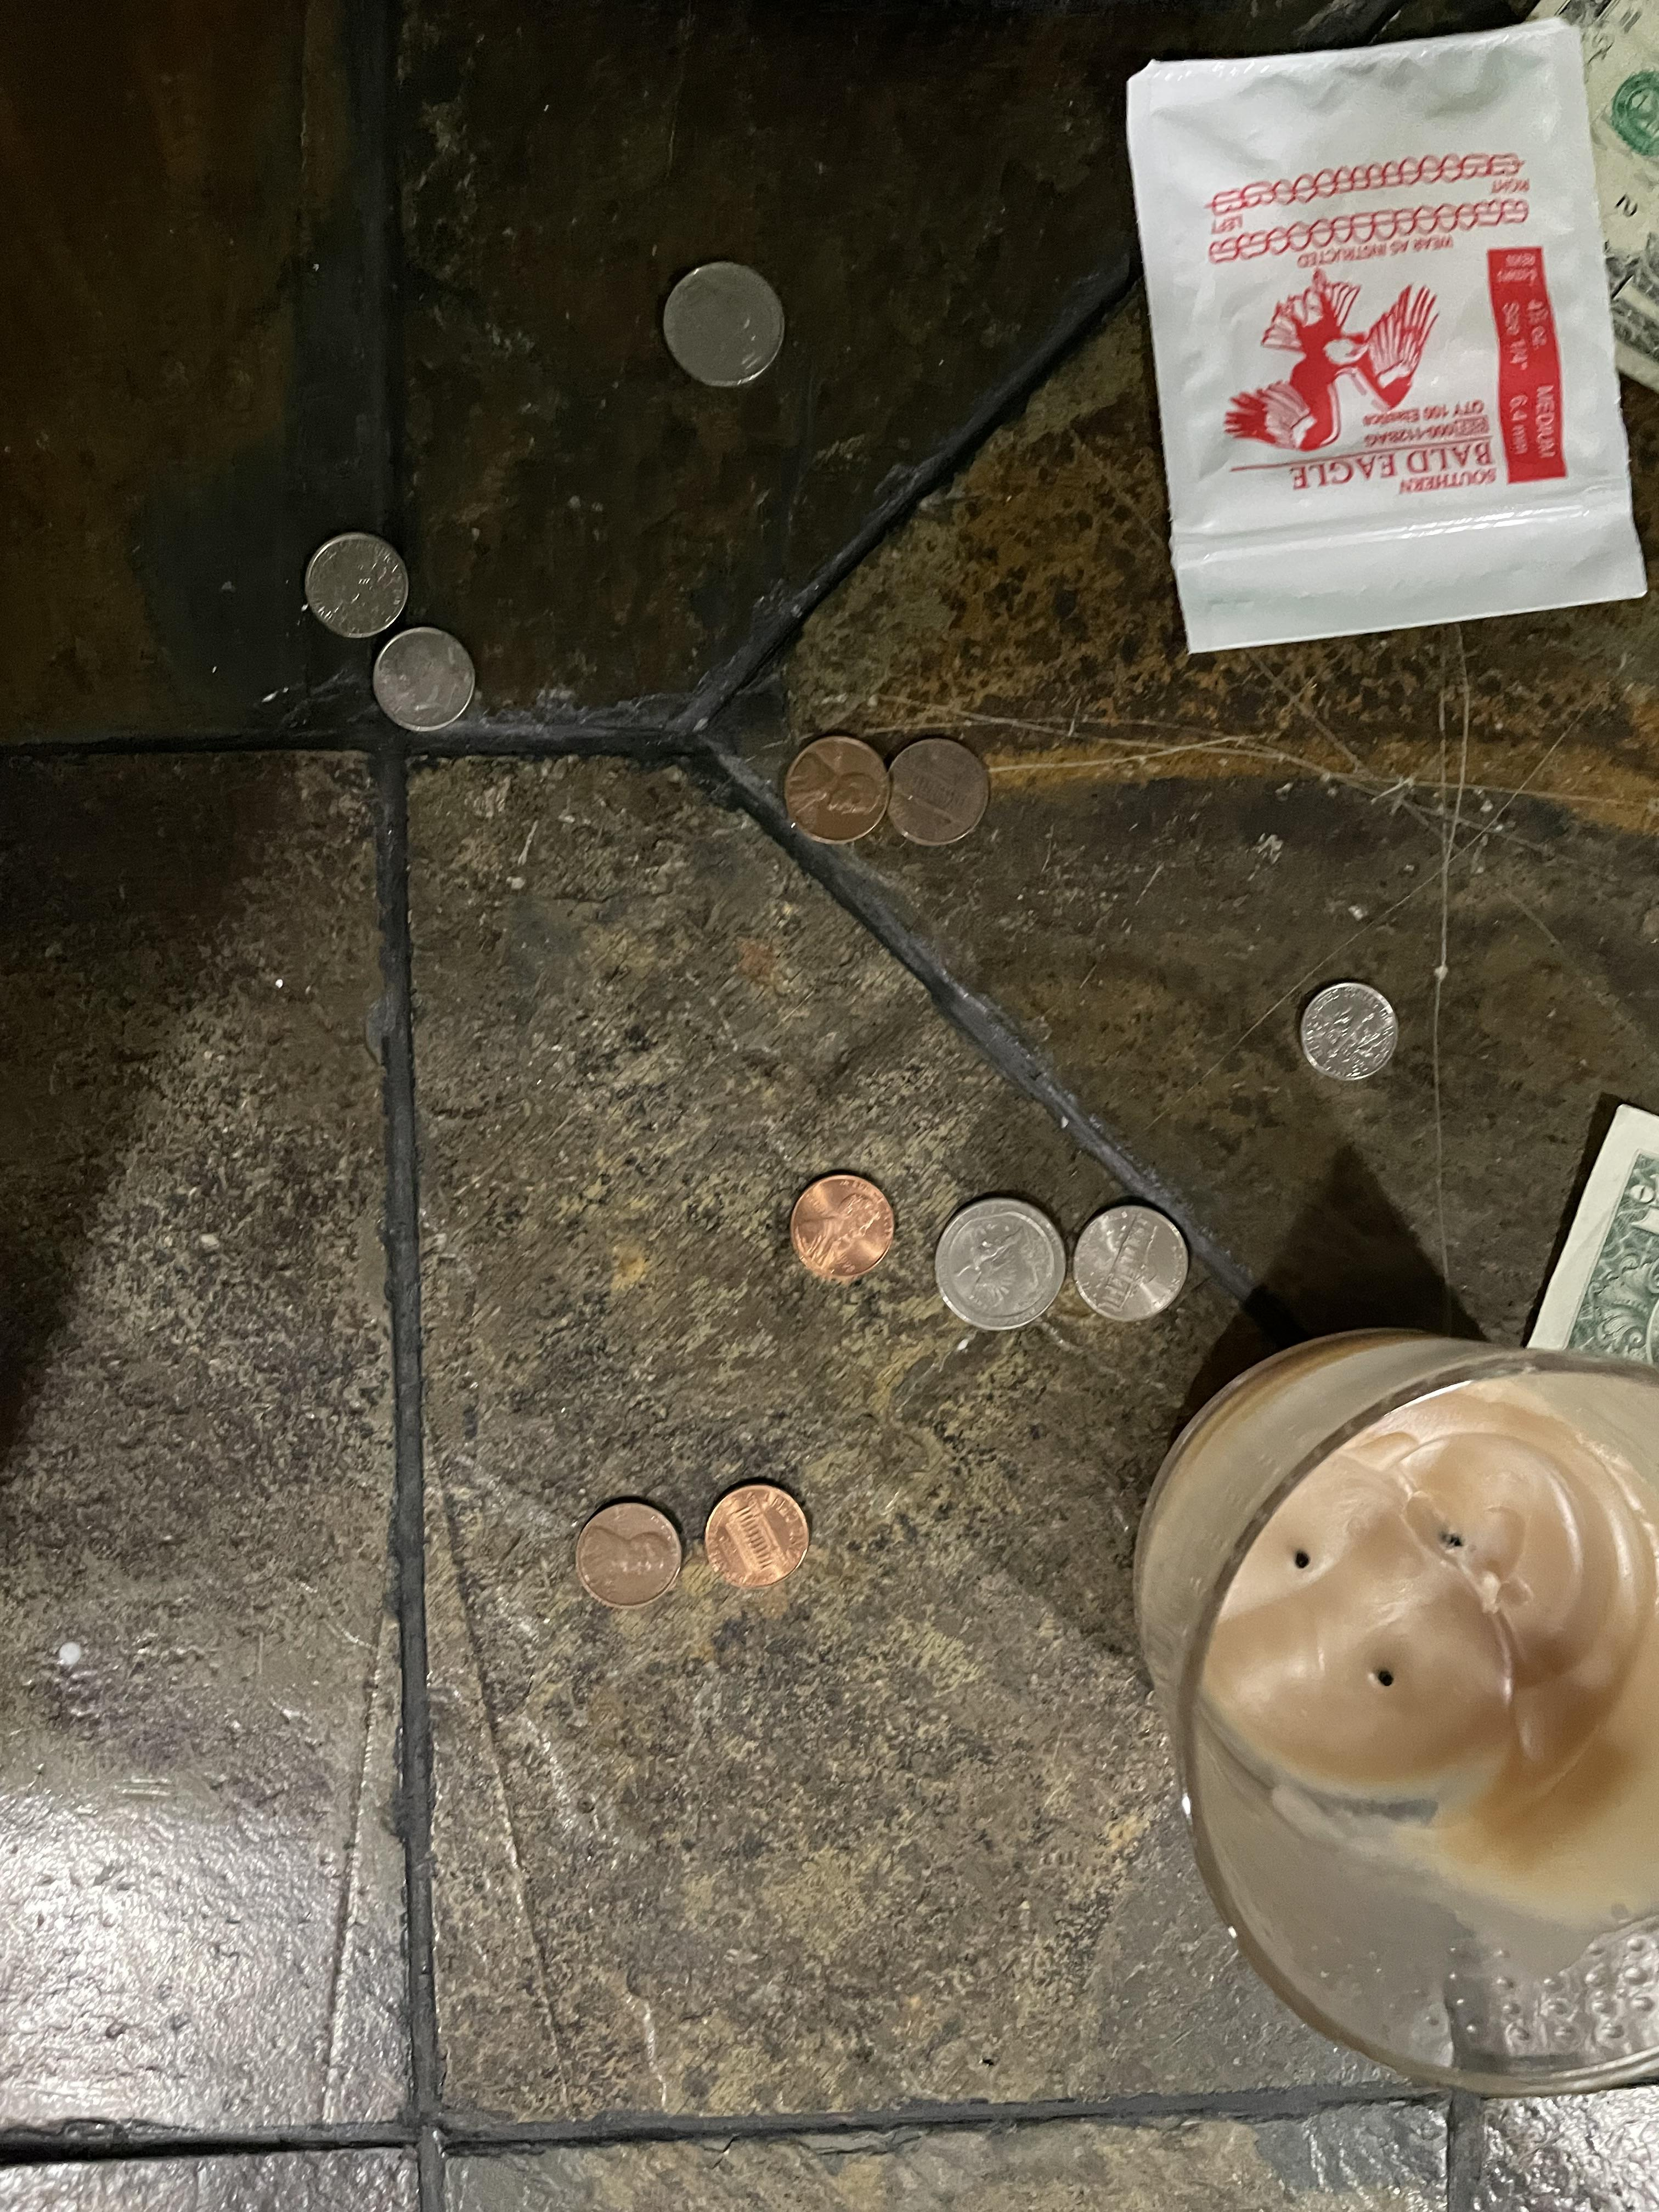Dime: (375, 610, 479, 740), (301, 528, 415, 634), (1295, 986, 1408, 1090)
Nickel: (655, 258, 784, 397), (1075, 1195, 1187, 1331)
Penny: (694, 1453, 816, 1613), (781, 1153, 908, 1301), (565, 1486, 692, 1629), (775, 718, 890, 867), (880, 730, 992, 853)
Quarter: (934, 1195, 1063, 1341)
